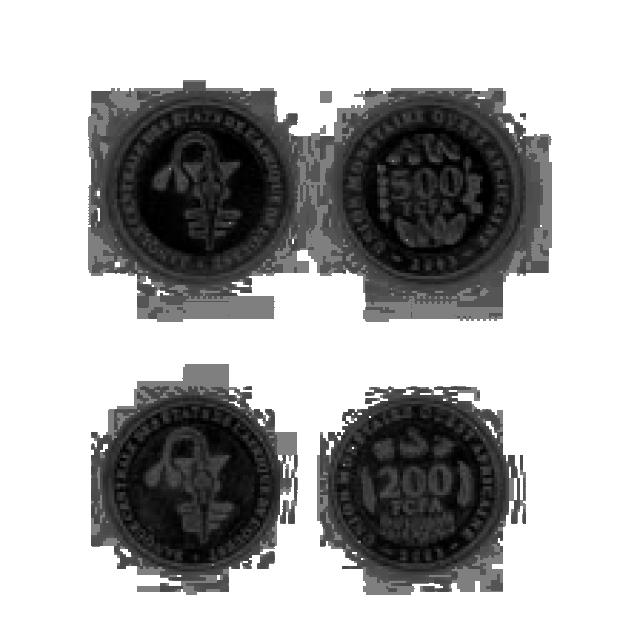nient fukk: (331, 402, 502, 568), (107, 400, 274, 565)
teemeer: (108, 98, 293, 279), (344, 102, 521, 276)
